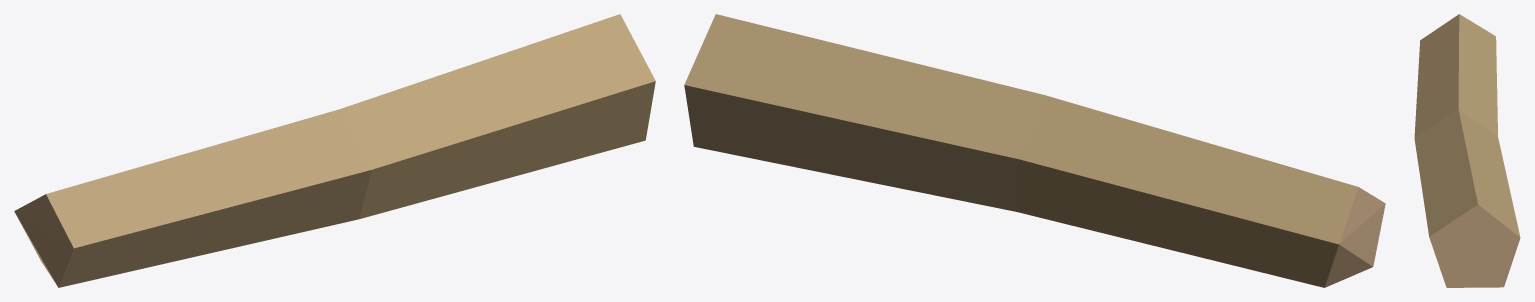
The model's file is Acacia_Log_02_LOD.fbx.
The picture shows the model from 3 angles, left to right: view 1: azimuth 30°, elevation 25°; view 2: azimuth 150°, elevation 25°; view 3: azimuth 270°, elevation 25°; orthographic projection. The views are drawn at different scales.
Visible parts, largest first — view 1: Acacia_Log_02_LOD0; view 2: Acacia_Log_02_LOD0; view 3: Acacia_Log_02_LOD0.
Boxes of the visible parts, x1,y1,x2,y2 form: Acacia_Log_02_LOD0: [14, 14, 655, 287]; Acacia_Log_02_LOD0: [684, 14, 1385, 287]; Acacia_Log_02_LOD0: [1414, 14, 1520, 287].
Size of what is drawn, in the model's own units: 178 by 31.9 by 37.29.
